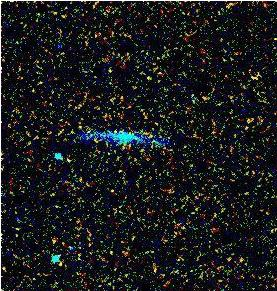star: (45, 250, 75, 280)
